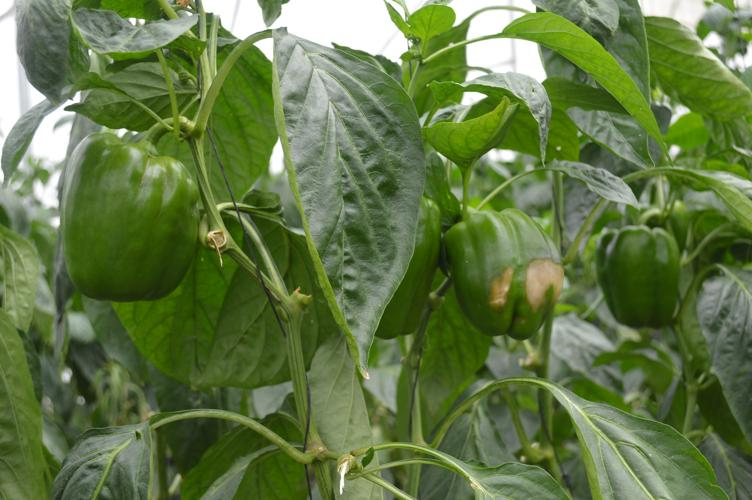BellPepper: (51, 131, 200, 308), (442, 209, 556, 345), (588, 212, 682, 334), (374, 188, 438, 356)
